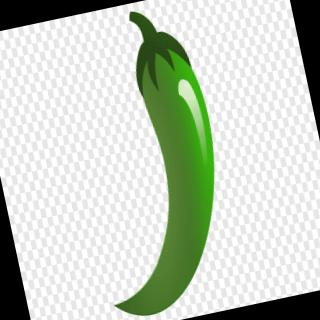Cabai Hijau: (55, 1, 247, 320)
